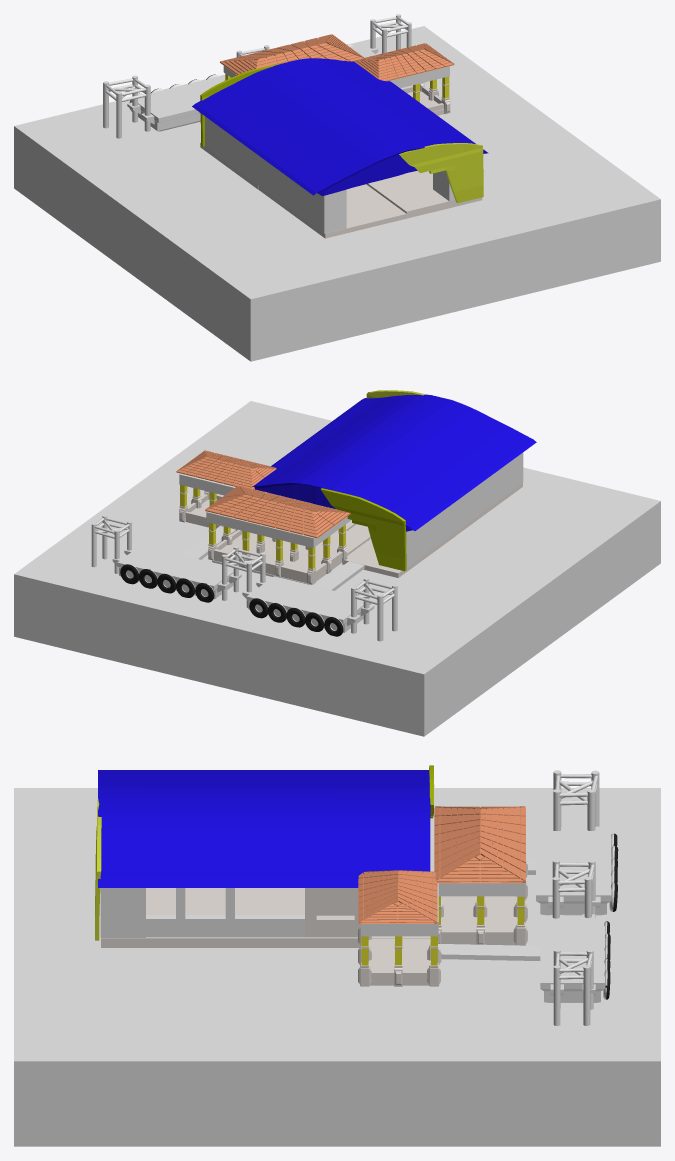
The picture shows the model from 3 angles, top to bottom: view 1: azimuth 30°, elevation 25°; view 2: azimuth 150°, elevation 25°; view 3: azimuth 270°, elevation 25°; orthographic projection. The views are drawn at different scales.
Parts seen in each view (by area): view 1: Water, ระนาบ.002, ลูกบาศก์.015, ลูกบาศก์.003, ตาราง.001, ลูกบาศก์.001, ระนาบ, ระนาบ.001, ทรงกระบอก.002, ทรงกระบอก.001, ตาราง, ลูกบาศก์.010 (+1 smaller); view 2: Water, ระนาบ.002, ลูกบาศก์.015, ลูกบาศก์.001, ลูกบาศก์, ระนาบ, ลูกบาศก์.005, ตาราง, ระนาบ.001, ลูกบาศก์.002, ทรงกระบอก.002, ทรงกระบอก.008 (+4 smaller); view 3: Water, ระนาบ.002, ลูกบาศก์.015, ระนาบ, ลูกบาศก์.001, ลูกบาศก์, ระนาบ.001, ลูกบาศก์.004, ลูกบาศก์.009, ทรงกระบอก.002, ทรงกระบอก.001, ทรงกระบอก.008 (+4 smaller).
Boxes of the visible parts, left/top/right/bottom form: Water: left=14, top=26, right=660, bottom=361; ระนาบ.002: left=192, top=58, right=488, bottom=195; ลูกบาศก์.015: left=200, top=74, right=482, bottom=238; ลูกบาศก์.003: left=205, top=116, right=346, bottom=233; ตาราง.001: left=399, top=143, right=483, bottom=203; ลูกบาศก์.001: left=127, top=74, right=225, bottom=131; ระนาบ: left=220, top=34, right=364, bottom=75; ระนาบ.001: left=351, top=43, right=454, bottom=81; ทรงกระบอก.002: left=103, top=75, right=150, bottom=138; ทรงกระบอก.001: left=370, top=14, right=411, bottom=53; ตาราง: left=200, top=62, right=283, bottom=146; ลูกบาศก์.010: left=390, top=66, right=449, bottom=88; Water: left=14, top=401, right=660, bottom=736; ระนาบ.002: left=252, top=394, right=536, bottom=531; ลูกบาศก์.015: left=179, top=483, right=522, bottom=584; ลูกบาศก์.001: left=242, top=576, right=374, bottom=636; ลูกบาศก์: left=112, top=545, right=241, bottom=602; ระนาบ: left=205, top=486, right=350, bottom=538; ลูกบาศก์.005: left=409, top=453, right=522, bottom=565; ตาราง: left=320, top=488, right=406, bottom=571; ระนาบ.001: left=176, top=450, right=276, bottom=489; ลูกบาศก์.002: left=206, top=491, right=351, bottom=584; ทรงกระบอก.002: left=351, top=577, right=397, bottom=641; ทรงกระบอก.008: left=222, top=546, right=265, bottom=607; Water: left=14, top=788, right=660, bottom=1146; ระนาบ.002: left=98, top=770, right=430, bottom=887; ลูกบาศก์.015: left=101, top=861, right=527, bottom=986; ระนาบ: left=434, top=806, right=525, bottom=883; ลูกบาศก์.001: left=536, top=826, right=618, bottom=915; ลูกบาศก์: left=540, top=914, right=610, bottom=1002; ระนาบ.001: left=358, top=870, right=437, bottom=923; ลูกบาศก์.004: left=146, top=915, right=304, bottom=937; ลูกบาศก์.009: left=100, top=888, right=145, bottom=937; ทรงกระบอก.002: left=553, top=770, right=599, bottom=830; ทรงกระบอก.001: left=553, top=949, right=593, bottom=1025; ทรงกระบอก.008: left=552, top=859, right=595, bottom=918.
Size of the model in its own units: 2018 by 671 by 2018.
